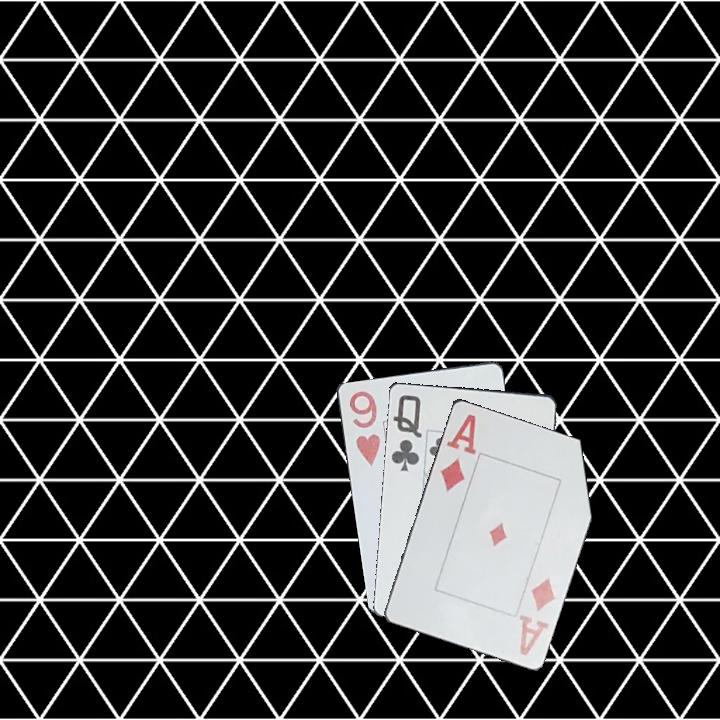9h: (345, 387, 383, 470)
Ad: (515, 573, 559, 658), (436, 410, 479, 495)
Qc: (387, 391, 425, 474)
